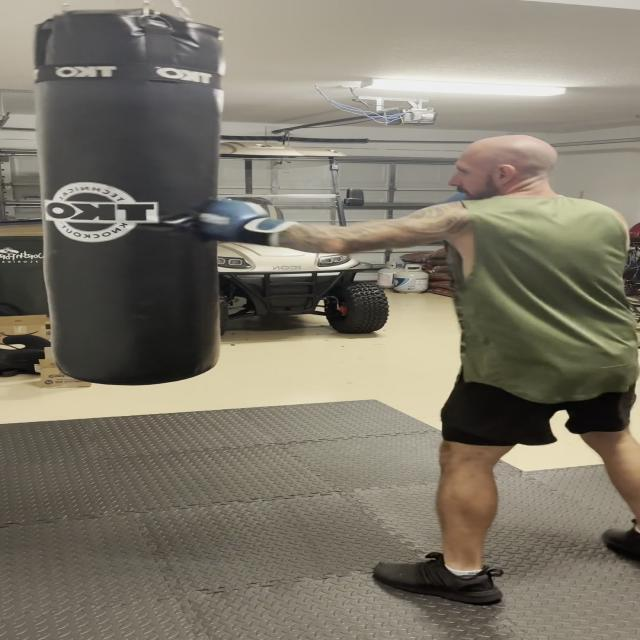bag: (34, 12, 230, 388)
jab: (183, 126, 592, 286)
